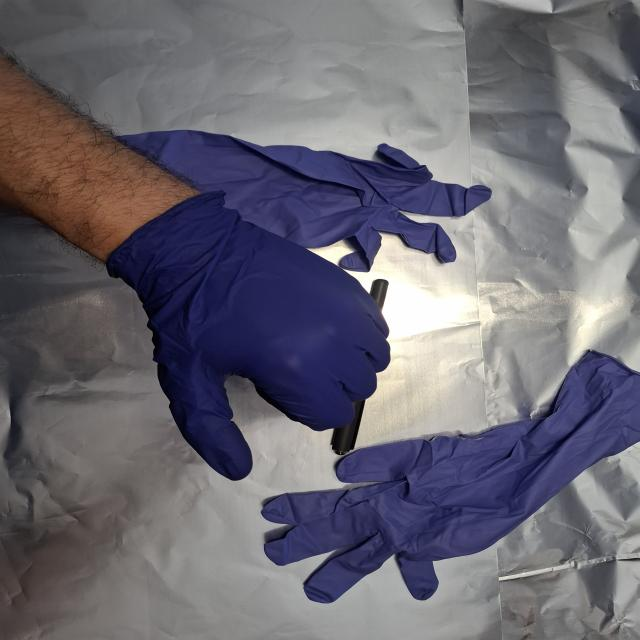glove_on: (110, 193, 395, 484)
